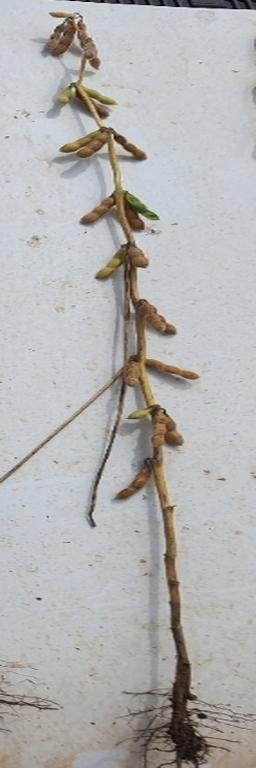pod: (115, 458, 153, 501), (77, 190, 116, 225), (93, 245, 126, 282), (149, 355, 198, 378), (114, 135, 148, 159), (83, 83, 118, 106), (163, 417, 184, 445), (123, 204, 143, 229), (129, 245, 150, 267), (123, 359, 138, 388), (55, 84, 74, 105), (126, 405, 153, 419)
soy: (42, 8, 229, 766)
